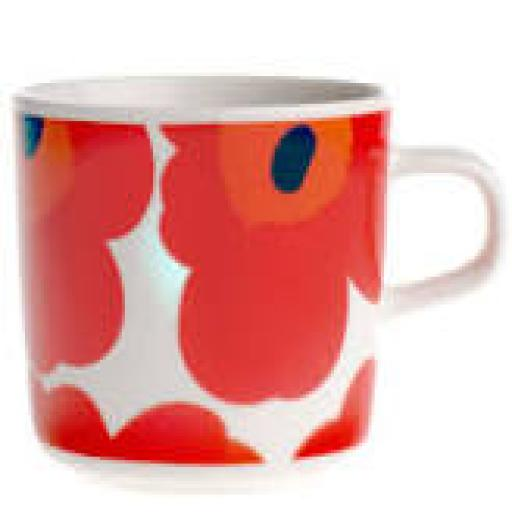red mug: (16, 77, 499, 470)
